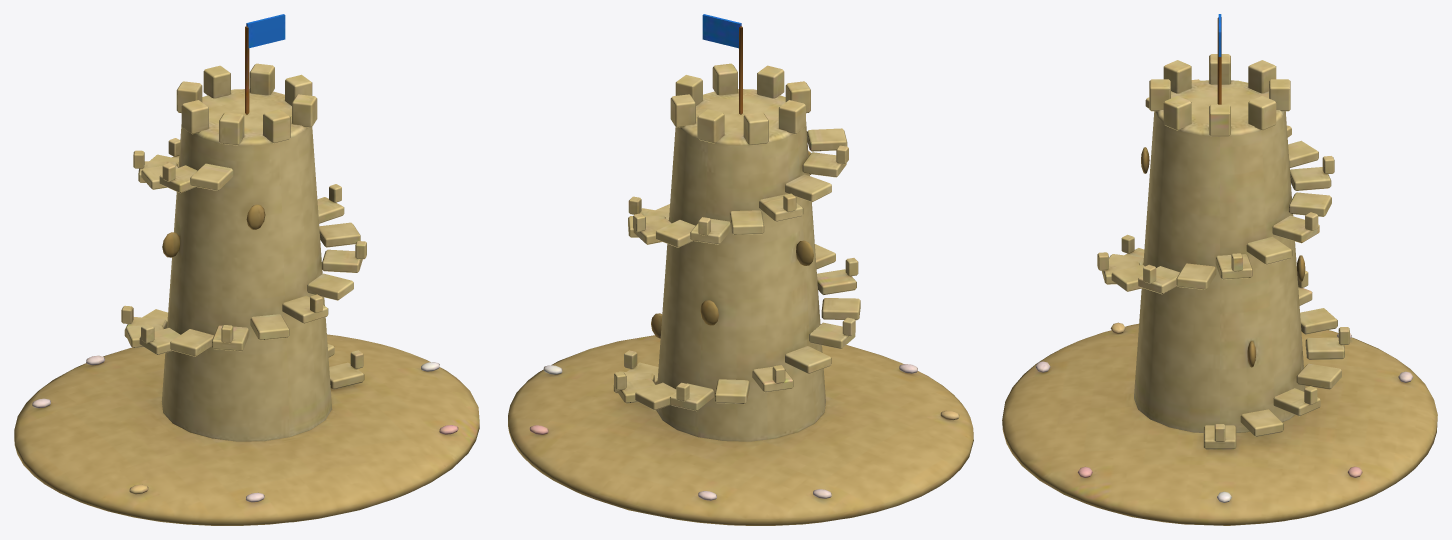
Rendered from sand_tower.glb.
3 views of the same model, side by side, from view 1: azimuth 30°, elevation 25°; view 2: azimuth 150°, elevation 25°; view 3: azimuth 270°, elevation 25° (orthographic).
Parts seen in each view (by area): view 1: sand_tower; view 2: sand_tower; view 3: sand_tower.
Boxes of the visible parts, x1,y1,x2,y2 form: sand_tower: (14,14,479,525); sand_tower: (508,14,973,525); sand_tower: (1002,14,1437,525).
Size of the model in its own units: 0.8795 by 0.8754 by 0.8004.
Materials: 1 (1 with a texture image).
